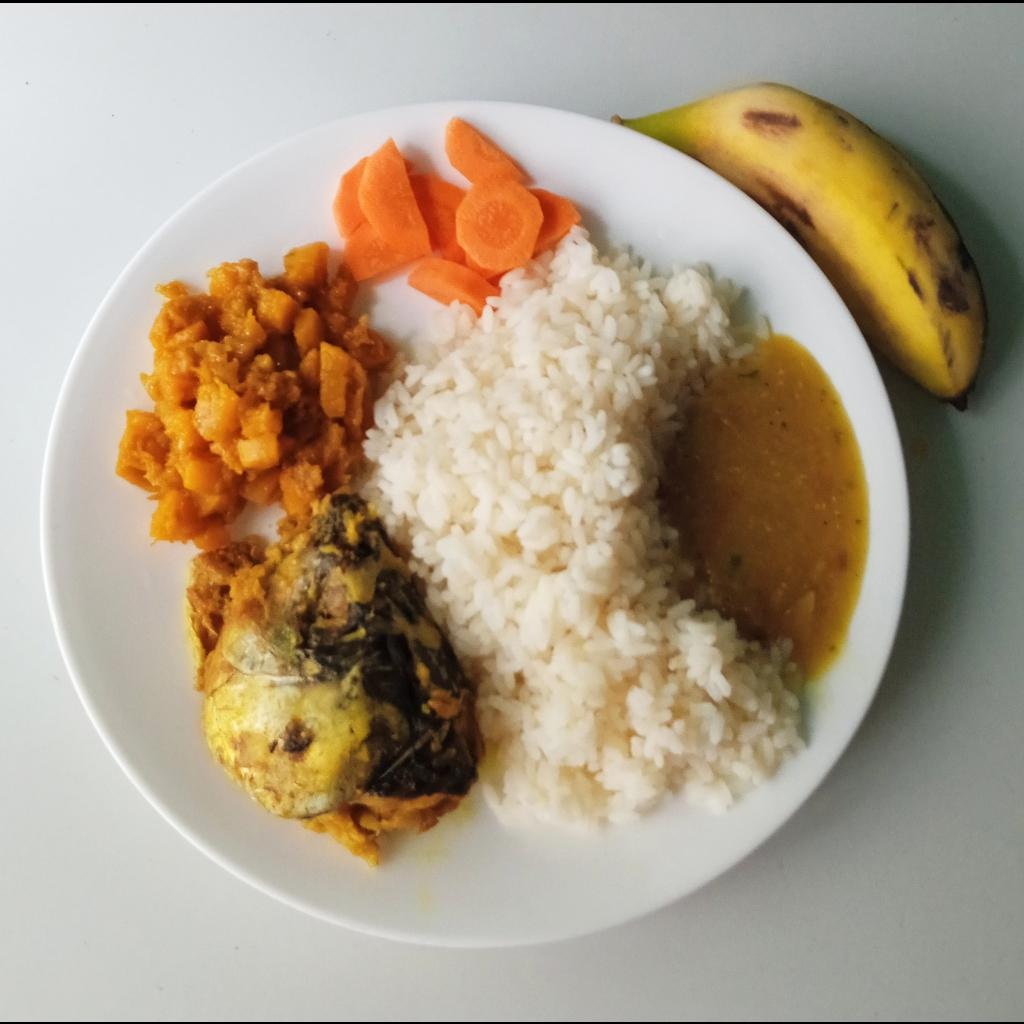banana: (611, 81, 987, 412)
carrot: (331, 114, 585, 316)
daal: (664, 335, 869, 664)
fish: (185, 494, 480, 867)
kumra-vaji: (115, 241, 400, 555)
rice: (360, 224, 807, 841)
